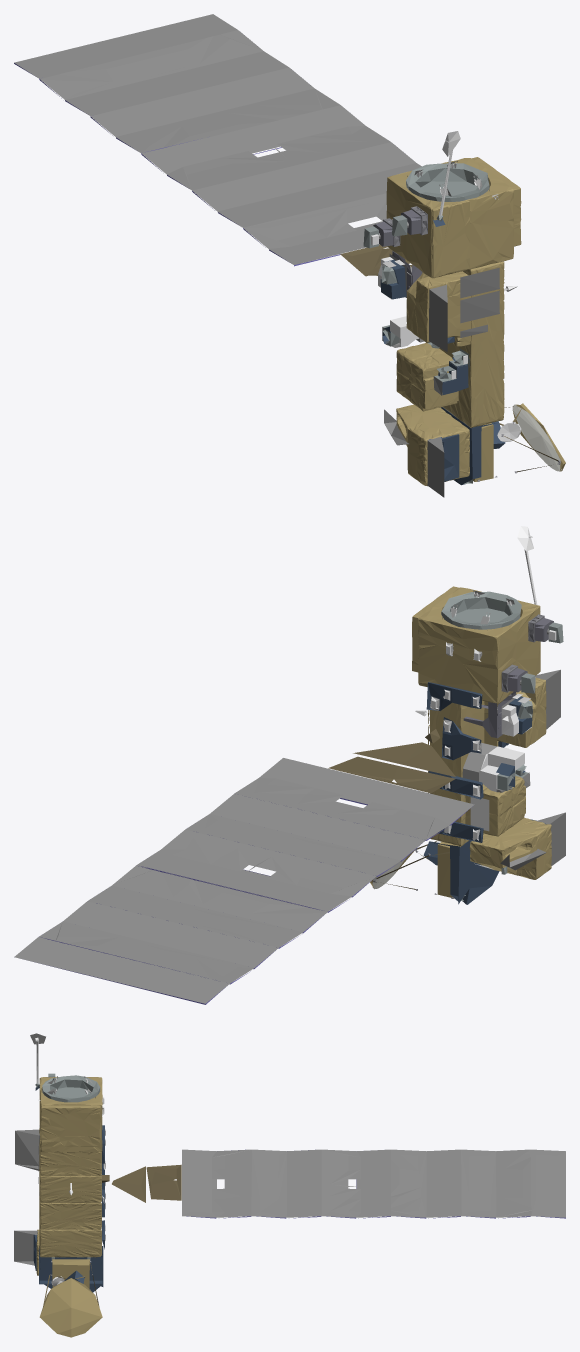
Rendered from aqua.glb.
3 views of the same model, one above another, from view 1: azimuth 30°, elevation 25°; view 2: azimuth 150°, elevation 25°; view 3: azimuth 270°, elevation 25° (orthographic). The views are drawn at different scales.
Visible parts, largest first — view 1: Aqua_Reduced_v0014 [Aqua_Layered_02 [Layer2]], Aqua_Reduced_v0014 [Aqua_Layered_02 [Layer22]], Aqua_Reduced_v0014 [Aqua_Layered_02 [(unnamed)]], Aqua_Reduced_v0014 [Aqua_Layered_02 [Layer10]], Aqua_Reduced_v0014 [Aqua_Layered_02 [Layer19]], Aqua_Reduced_v0014 [Aqua_Layered_02 [Layer9]], Aqua_Reduced_v0014 [Aqua_Layered_02 [Layer20]], Aqua_Reduced_v0014 [Aqua_Layered_02 [Layer21]], Aqua_Reduced_v0014 [Aqua_Layered_02 [Layer14]], Aqua_Reduced_v0014 [Aqua_Layered_02 [Layer18]], Aqua_Reduced_v0014 [Aqua_Layered_02 [Layer16]], Aqua_Reduced_v0014 [Layer25] (+3 smaller); view 2: Aqua_Reduced_v0014 [Aqua_Layered_02 [Layer2]], Aqua_Reduced_v0014 [Aqua_Layered_02 [Layer22]], Aqua_Reduced_v0014 [Aqua_Layered_02 [Layer9]], Aqua_Reduced_v0014 [Aqua_Layered_02 [Layer3]], Aqua_Reduced_v0014 [Aqua_Layered_02 [Layer10]], Aqua_Reduced_v0014 [Aqua_Layered_02 [Layer19]], Aqua_Reduced_v0014 [Aqua_Layered_02 [(unnamed)]], Aqua_Reduced_v0014 [Aqua_Layered_02 [Layer16]], Aqua_Reduced_v0014 [Aqua_Layered_02 [Layer14]], Aqua_Reduced_v0014 [Aqua_Layered_02 [Layer20]], Aqua_Reduced_v0014 [Aqua_Layered_02 [Layer17]], Aqua_Reduced_v0014 [Aqua_Layered_02 [Layer21]] (+4 smaller); view 3: Aqua_Reduced_v0014 [Aqua_Layered_02 [Layer2]], Aqua_Reduced_v0014 [Aqua_Layered_02 [Layer23]], Aqua_Reduced_v0014 [Aqua_Layered_02 [Layer22]], Aqua_Reduced_v0014 [Layer26], Aqua_Reduced_v0014 [Aqua_Layered_02 [Layer3]], Aqua_Reduced_v0014 [Aqua_Layered_02 [Layer14]], Aqua_Reduced_v0014 [Aqua_Layered_02 [Layer9]], Aqua_Reduced_v0014 [Aqua_Layered_02 [Layer10]], Aqua_Reduced_v0014 [Layer24], Aqua_Reduced_v0014 [Aqua_Layered_02 [(unnamed)]], Aqua_Reduced_v0014 [Aqua_Layered_02 [Layer16]].
Part boxes in pixels (bbox=[...]): Aqua_Reduced_v0014 [Aqua_Layered_02 [Layer2]]: bbox=[14, 14, 421, 264]; Aqua_Reduced_v0014 [Aqua_Layered_02 [Layer22]]: bbox=[386, 157, 521, 278]; Aqua_Reduced_v0014 [Aqua_Layered_02 [(unnamed)]]: bbox=[439, 262, 503, 427]; Aqua_Reduced_v0014 [Aqua_Layered_02 [Layer10]]: bbox=[363, 163, 489, 483]; Aqua_Reduced_v0014 [Aqua_Layered_02 [Layer19]]: bbox=[396, 404, 469, 486]; Aqua_Reduced_v0014 [Aqua_Layered_02 [Layer9]]: bbox=[380, 162, 505, 485]; Aqua_Reduced_v0014 [Aqua_Layered_02 [Layer20]]: bbox=[396, 343, 458, 411]; Aqua_Reduced_v0014 [Aqua_Layered_02 [Layer21]]: bbox=[406, 271, 471, 346]; Aqua_Reduced_v0014 [Aqua_Layered_02 [Layer14]]: bbox=[384, 284, 447, 497]; Aqua_Reduced_v0014 [Aqua_Layered_02 [Layer18]]: bbox=[460, 267, 499, 337]; Aqua_Reduced_v0014 [Aqua_Layered_02 [Layer16]]: bbox=[371, 131, 521, 441]; Aqua_Reduced_v0014 [Layer25]: bbox=[512, 404, 561, 471]; Aqua_Reduced_v0014 [Aqua_Layered_02 [Layer2]]: bbox=[14, 758, 474, 1003]; Aqua_Reduced_v0014 [Aqua_Layered_02 [Layer22]]: bbox=[412, 586, 540, 703]; Aqua_Reduced_v0014 [Aqua_Layered_02 [Layer9]]: bbox=[423, 617, 546, 904]; Aqua_Reduced_v0014 [Aqua_Layered_02 [Layer3]]: bbox=[328, 729, 455, 793]; Aqua_Reduced_v0014 [Aqua_Layered_02 [Layer10]]: bbox=[441, 591, 563, 900]; Aqua_Reduced_v0014 [Aqua_Layered_02 [Layer19]]: bbox=[469, 818, 551, 879]; Aqua_Reduced_v0014 [Aqua_Layered_02 [(unnamed)]]: bbox=[430, 700, 484, 846]; Aqua_Reduced_v0014 [Aqua_Layered_02 [Layer16]]: bbox=[415, 526, 556, 842]; Aqua_Reduced_v0014 [Aqua_Layered_02 [Layer14]]: bbox=[500, 669, 565, 870]; Aqua_Reduced_v0014 [Aqua_Layered_02 [Layer20]]: bbox=[465, 776, 525, 836]; Aqua_Reduced_v0014 [Aqua_Layered_02 [Layer17]]: bbox=[430, 642, 531, 869]; Aqua_Reduced_v0014 [Aqua_Layered_02 [Layer21]]: bbox=[484, 677, 546, 747]; Aqua_Reduced_v0014 [Aqua_Layered_02 [Layer2]]: bbox=[182, 1149, 565, 1217]; Aqua_Reduced_v0014 [Aqua_Layered_02 [Layer23]]: bbox=[40, 1149, 101, 1256]; Aqua_Reduced_v0014 [Aqua_Layered_02 [Layer22]]: bbox=[39, 1077, 102, 1152]; Aqua_Reduced_v0014 [Layer26]: bbox=[39, 1278, 102, 1337]; Aqua_Reduced_v0014 [Aqua_Layered_02 [Layer3]]: bbox=[101, 1164, 181, 1202]; Aqua_Reduced_v0014 [Aqua_Layered_02 [Layer14]]: bbox=[14, 1129, 39, 1265]; Aqua_Reduced_v0014 [Aqua_Layered_02 [Layer9]]: bbox=[33, 1085, 104, 1292]; Aqua_Reduced_v0014 [Aqua_Layered_02 [Layer10]]: bbox=[35, 1073, 100, 1289]; Aqua_Reduced_v0014 [Layer24]: bbox=[52, 1259, 89, 1288]; Aqua_Reduced_v0014 [Aqua_Layered_02 [(unnamed)]]: bbox=[39, 1139, 101, 1257]; Aqua_Reduced_v0014 [Aqua_Layered_02 [Layer16]]: bbox=[30, 1033, 88, 1286].
Bounding box in the file's own units: 124 × 229 × 434.
